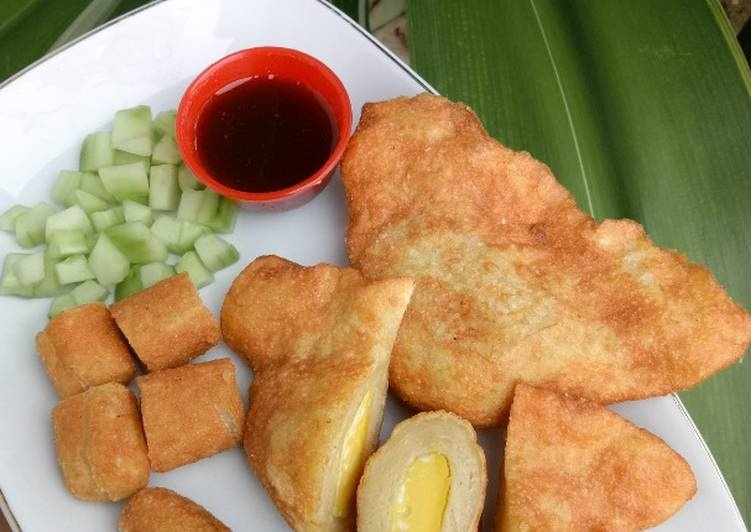pempek: (26, 255, 702, 532), (357, 101, 751, 412)
